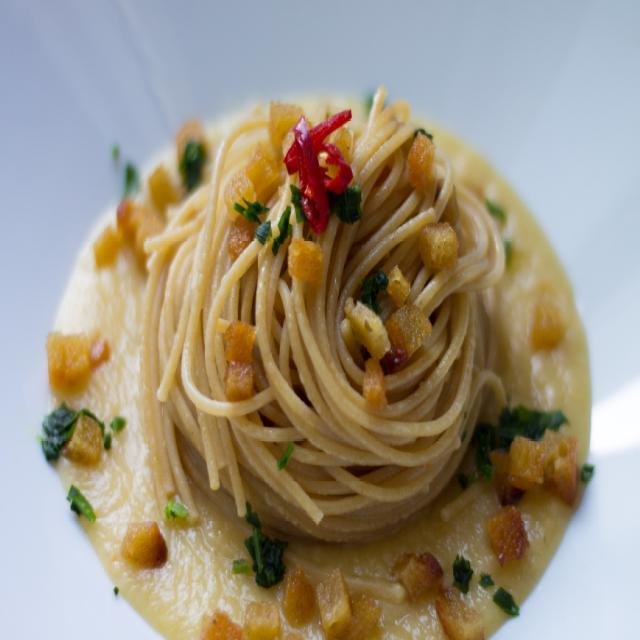Oil pasta: (97, 87, 581, 593)
